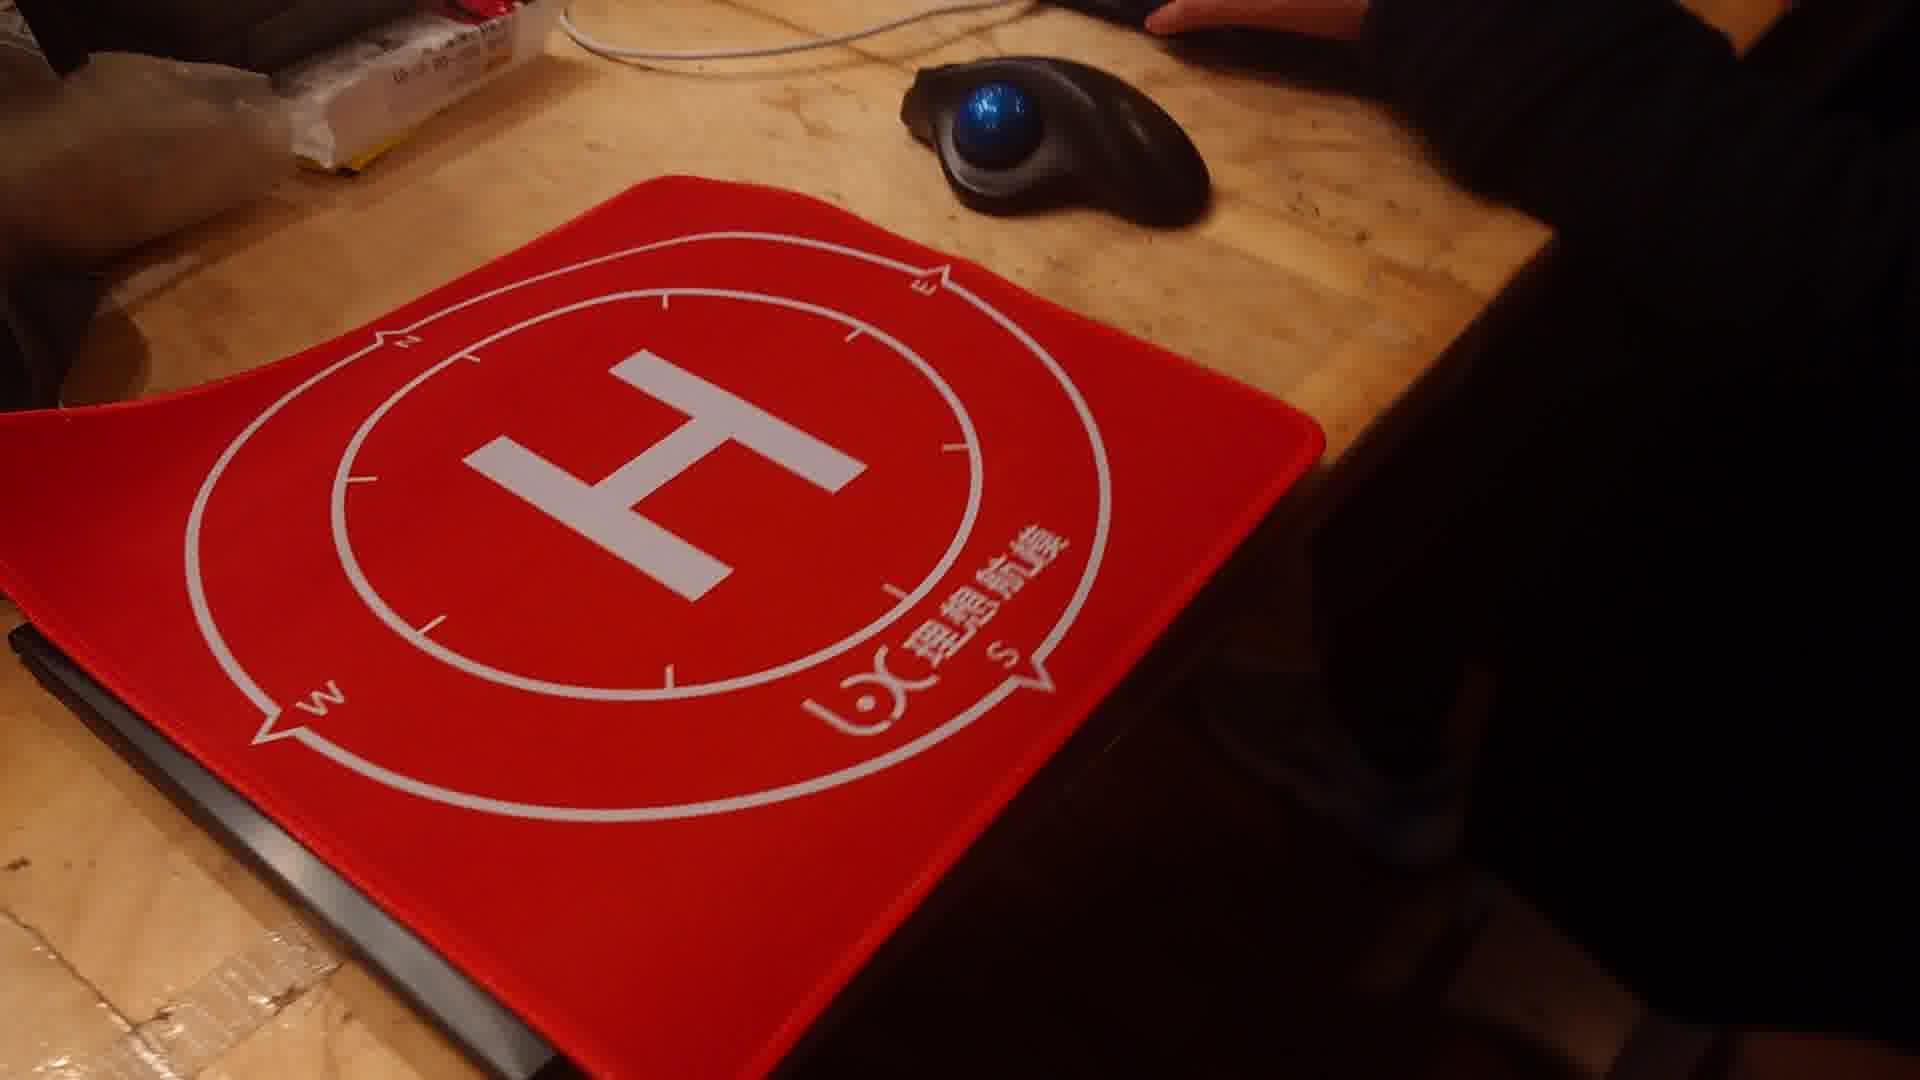H: (460, 348, 868, 603)
